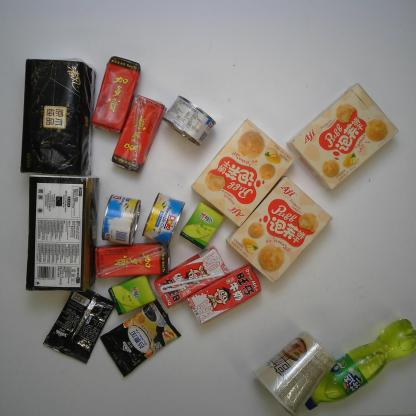Canned Food: (162, 95, 217, 145), (142, 193, 186, 245), (102, 193, 142, 247)
Dessert: (287, 79, 400, 192), (192, 118, 296, 229), (226, 176, 332, 284)
Drink: (305, 306, 415, 409), (113, 91, 165, 172), (90, 56, 141, 132), (95, 244, 172, 277)
Instant Drink: (100, 304, 182, 376), (42, 285, 115, 364)
Instant Noodles: (253, 328, 336, 412)
Milk: (187, 264, 262, 324), (154, 249, 228, 305)
Tissue: (21, 57, 94, 179), (25, 172, 97, 293), (176, 200, 223, 251), (108, 273, 156, 315)
